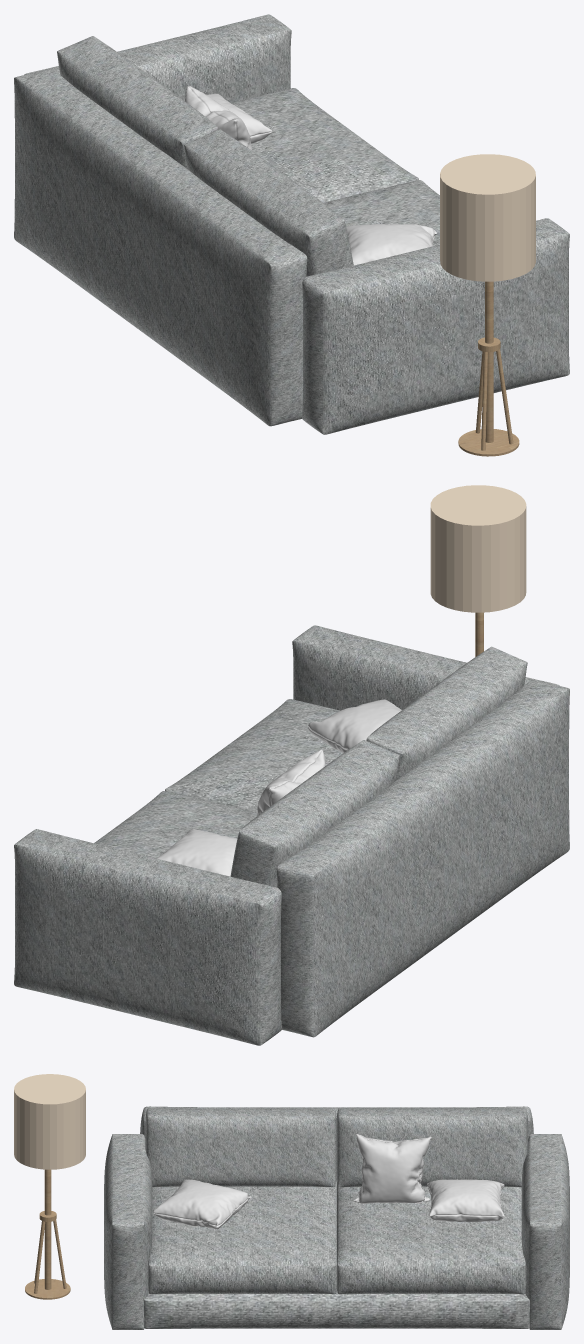
Rendered from sofa_and_lamp.glb.
The picture shows the model from 3 angles, top to bottom: view 1: azimuth 30°, elevation 25°; view 2: azimuth 150°, elevation 25°; view 3: azimuth 270°, elevation 25°; orthographic projection. The views are drawn at different scales.
Visible parts, largest first — view 1: sofa, lampshades, cushion, light pole; view 2: sofa, lampshades, cushion; view 3: sofa, cushion, lampshades, light pole.
Part boxes in pixels (bbox=[...]): sofa: bbox=[14, 14, 569, 434]; lampshades: bbox=[440, 154, 535, 281]; cushion: bbox=[184, 85, 437, 265]; light pole: bbox=[458, 281, 519, 456]; sofa: bbox=[14, 625, 569, 1045]; lampshades: bbox=[430, 485, 526, 612]; cushion: bbox=[156, 699, 401, 876]; sofa: bbox=[104, 1106, 569, 1329]; cushion: bbox=[153, 1134, 504, 1229]; lampshades: bbox=[14, 1074, 85, 1169]; light pole: bbox=[25, 1169, 70, 1299].
Size of the model in its own units: 1.17 by 1.03 by 2.57.
Materials: 4 (2 with a texture image).
